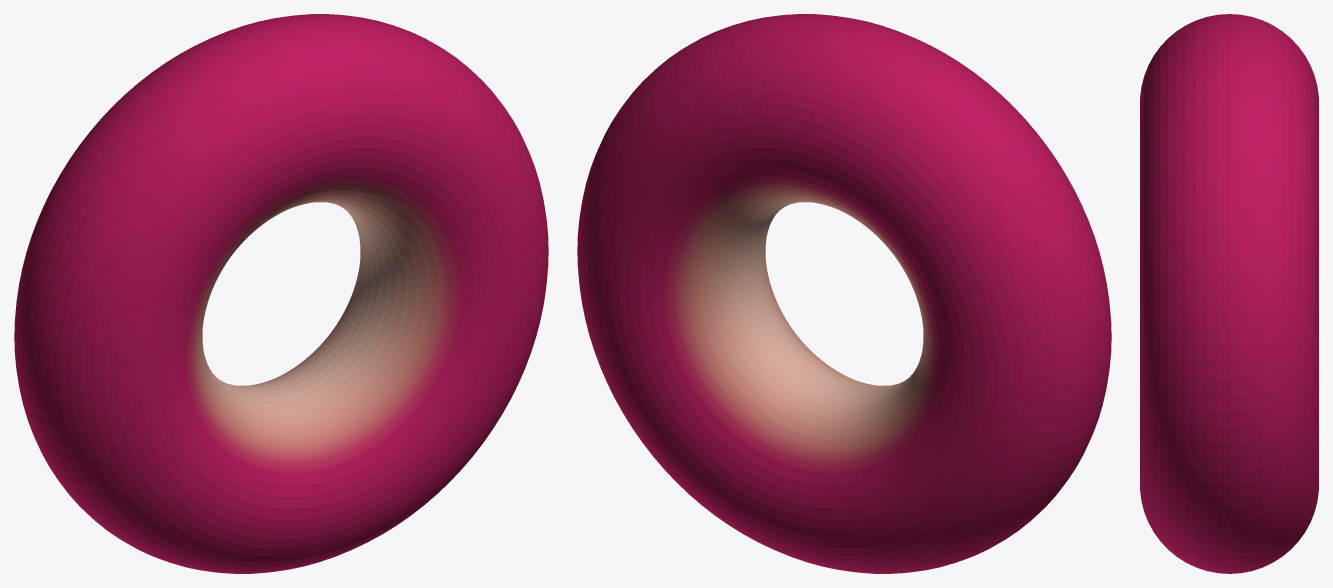
The picture shows the model from 3 angles, left to right: view 1: azimuth 30°, elevation 25°; view 2: azimuth 150°, elevation 25°; view 3: azimuth 270°, elevation 25°; orthographic projection. The views are drawn at different scales.
Parts seen in each view (by area): view 1: world; view 2: world; view 3: world.
Part boxes in pixels (left/top/right/bottom): world: left=14, top=14, right=548, bottom=573; world: left=577, top=14, right=1111, bottom=573; world: left=1140, top=14, right=1318, bottom=573.
Bounding box in the file's own units: 30.4 × 30.4 × 9.71.
